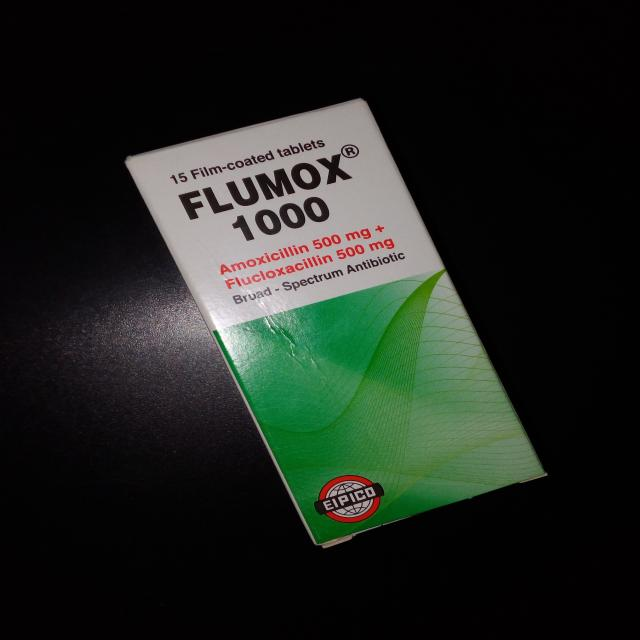Medicine: (124, 98, 555, 556)
